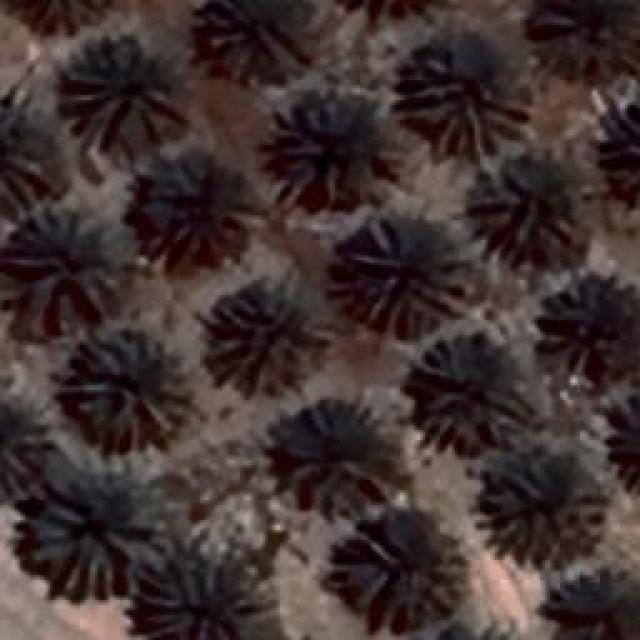PalmTree: (25, 452, 173, 600), (352, 212, 486, 338), (402, 32, 530, 158), (62, 330, 192, 450), (280, 398, 405, 520), (328, 525, 462, 633), (202, 280, 322, 398), (410, 338, 530, 452), (472, 460, 606, 562), (7, 202, 135, 308), (60, 30, 170, 150), (465, 142, 580, 255), (127, 160, 250, 262), (284, 96, 398, 202), (542, 274, 638, 378), (164, 552, 268, 640), (535, 569, 640, 640), (0, 388, 58, 506), (199, 0, 292, 72), (552, 0, 640, 65), (0, 110, 62, 200), (0, 0, 124, 39), (598, 384, 640, 496), (598, 96, 640, 206), (422, 614, 538, 640)
